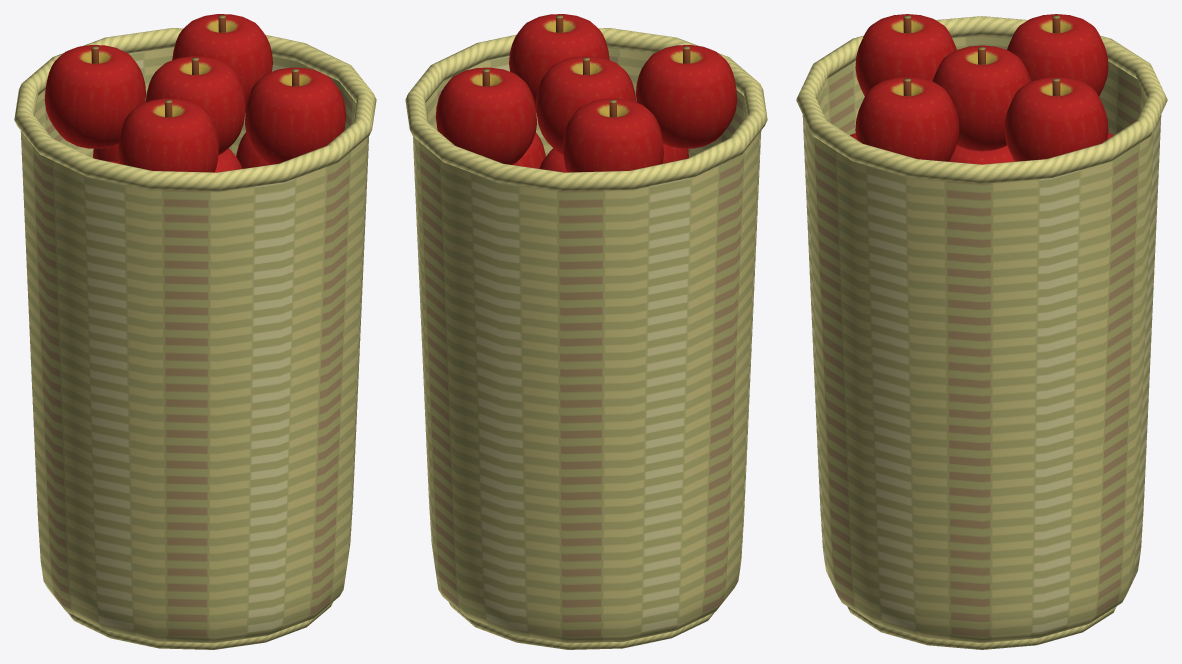
The model's file is stage.glb.
3 renders of one model, left to right at view 1: azimuth 30°, elevation 25°; view 2: azimuth 150°, elevation 25°; view 3: azimuth 270°, elevation 25°, orthographic.
Parts seen in each view (by area): view 1: basket; view 2: basket; view 3: basket.
Part boxes in pixels (box(x1,y1,x2,y2)): basket: box(14, 14, 376, 649); basket: box(405, 14, 767, 649); basket: box(796, 14, 1167, 649).
Size of the model in its own units: 0.3178 by 0.5122 by 0.3176.
2 materials, 2 textured.
